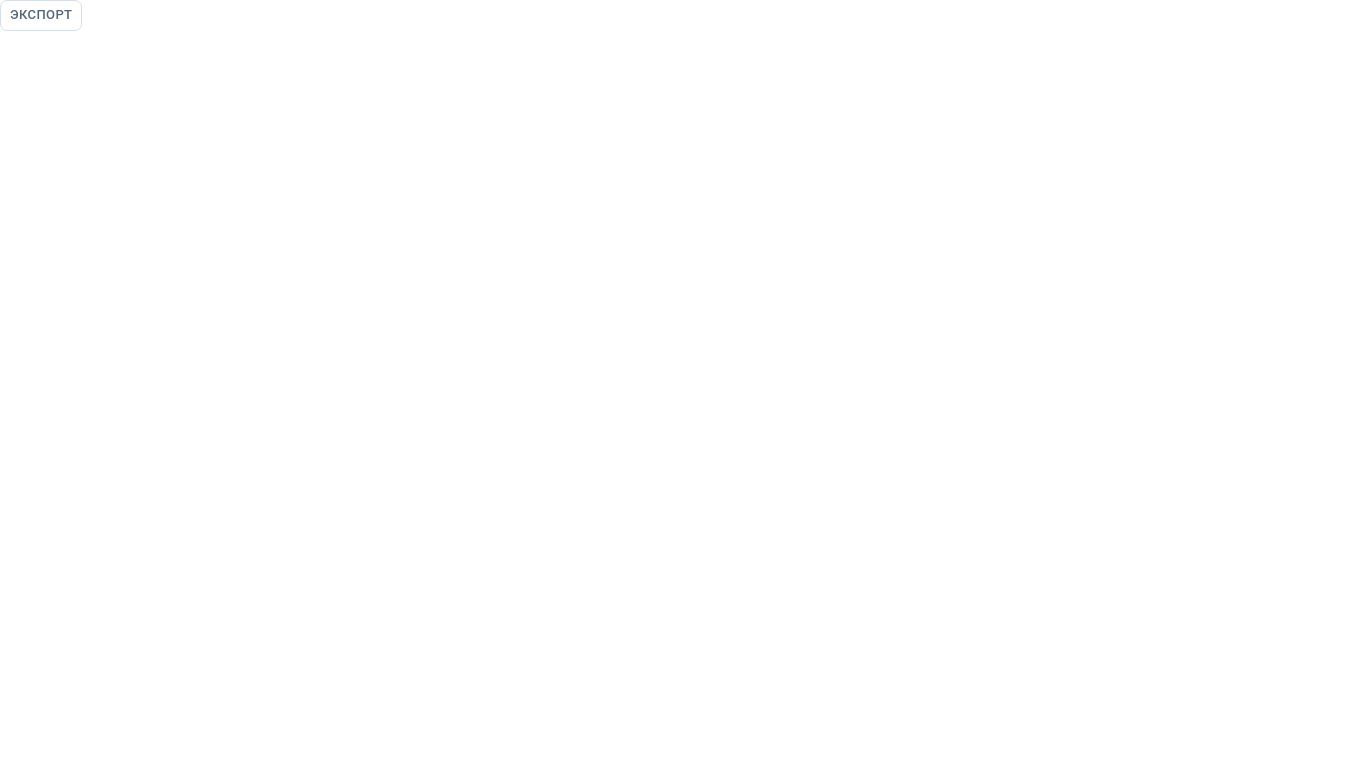
Test: на вкладке без графика оставляет выгрузку таблицы доступной
Later steps or results of the test are not shown.
Click the button "Экспорт" at (41, 15), box [0,0,82,31]
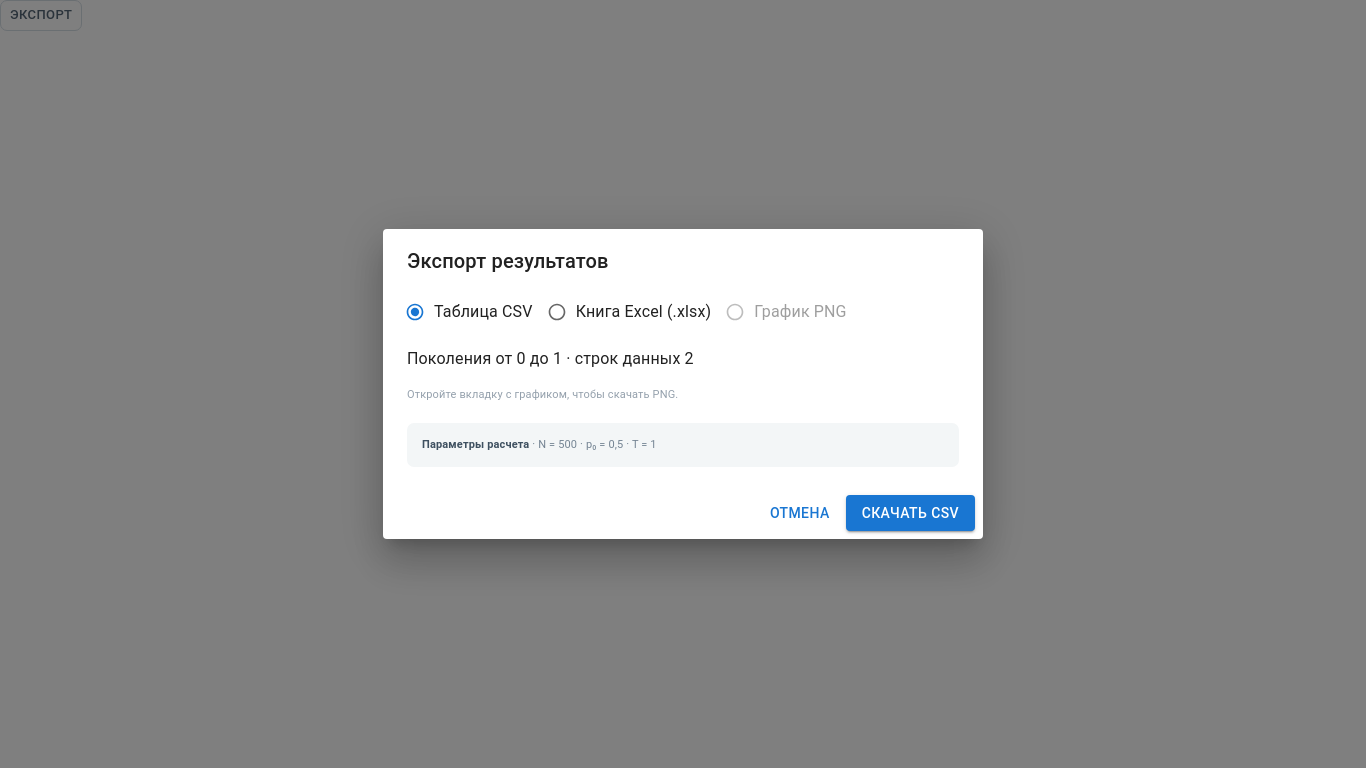
Now the radio button labelled "График PNG" is disabled, box [725,302,847,322]
